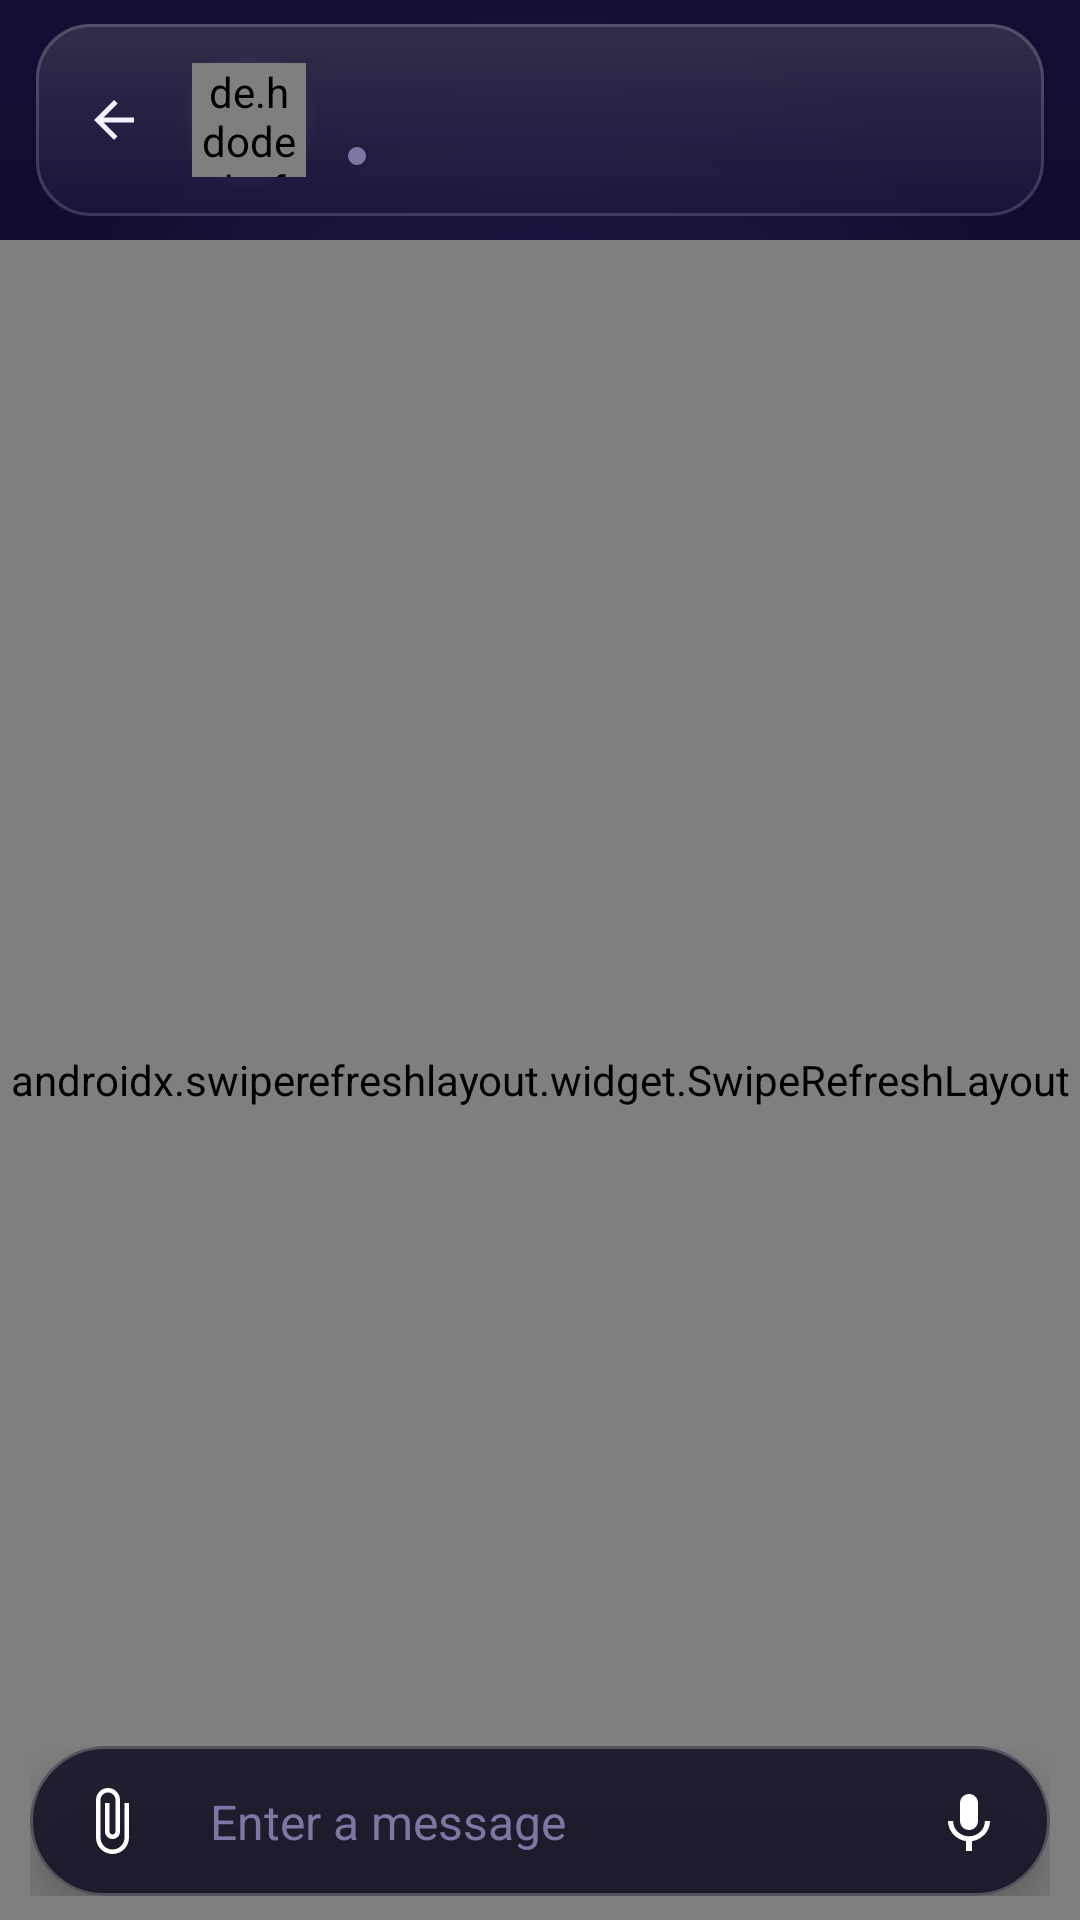

Named icons in this screenshot (1080px x 1920px) and their bounding boxes, [x1,y1,x2,y2]:
attach: [96,1788,129,1854]
mic: [948,1794,990,1851]
